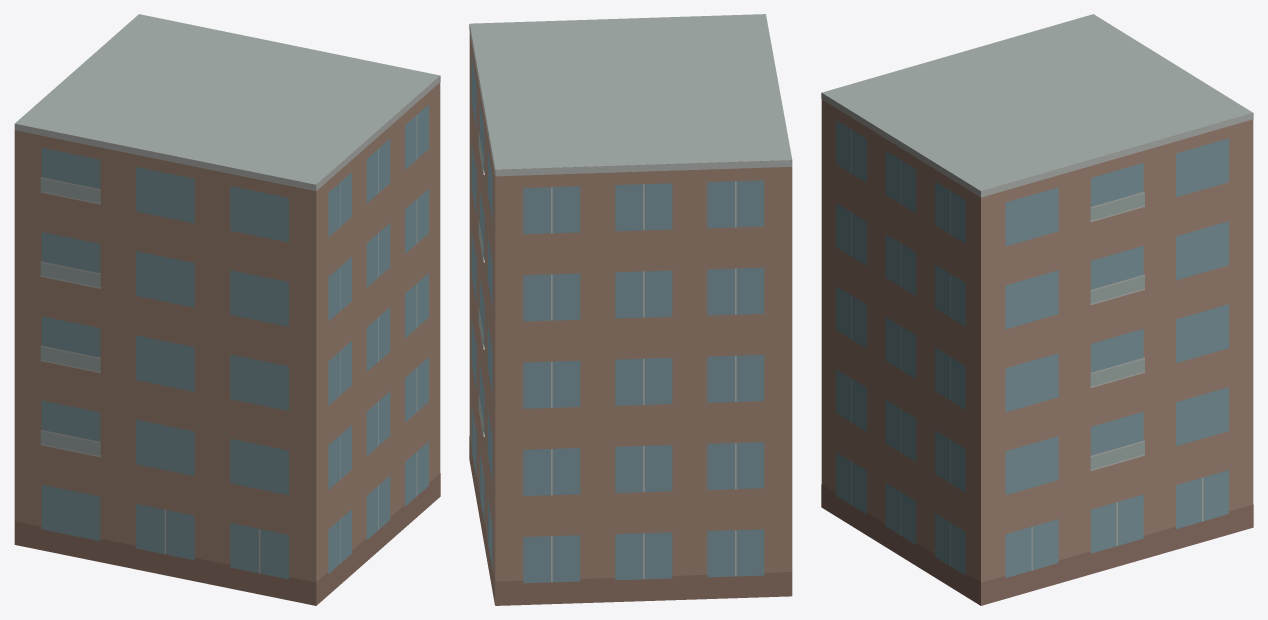
File: survey-upis-32888467.glb
3 renders of one model, left to right at view 1: azimuth 30°, elevation 25°; view 2: azimuth 150°, elevation 25°; view 3: azimuth 270°, elevation 25°, orthographic. The views are drawn at different scales.
Visible parts, largest first — view 1: survey-upis-32888467.tmp; view 2: survey-upis-32888467.tmp; view 3: survey-upis-32888467.tmp.
Boxes of the visible parts, left/top/right/bottom form: survey-upis-32888467.tmp: left=14, top=14, right=440, bottom=605; survey-upis-32888467.tmp: left=469, top=14, right=792, bottom=605; survey-upis-32888467.tmp: left=821, top=14, right=1253, bottom=605.
Bounding box in the file's own units: 14.49 × 15.8 × 14.92.
